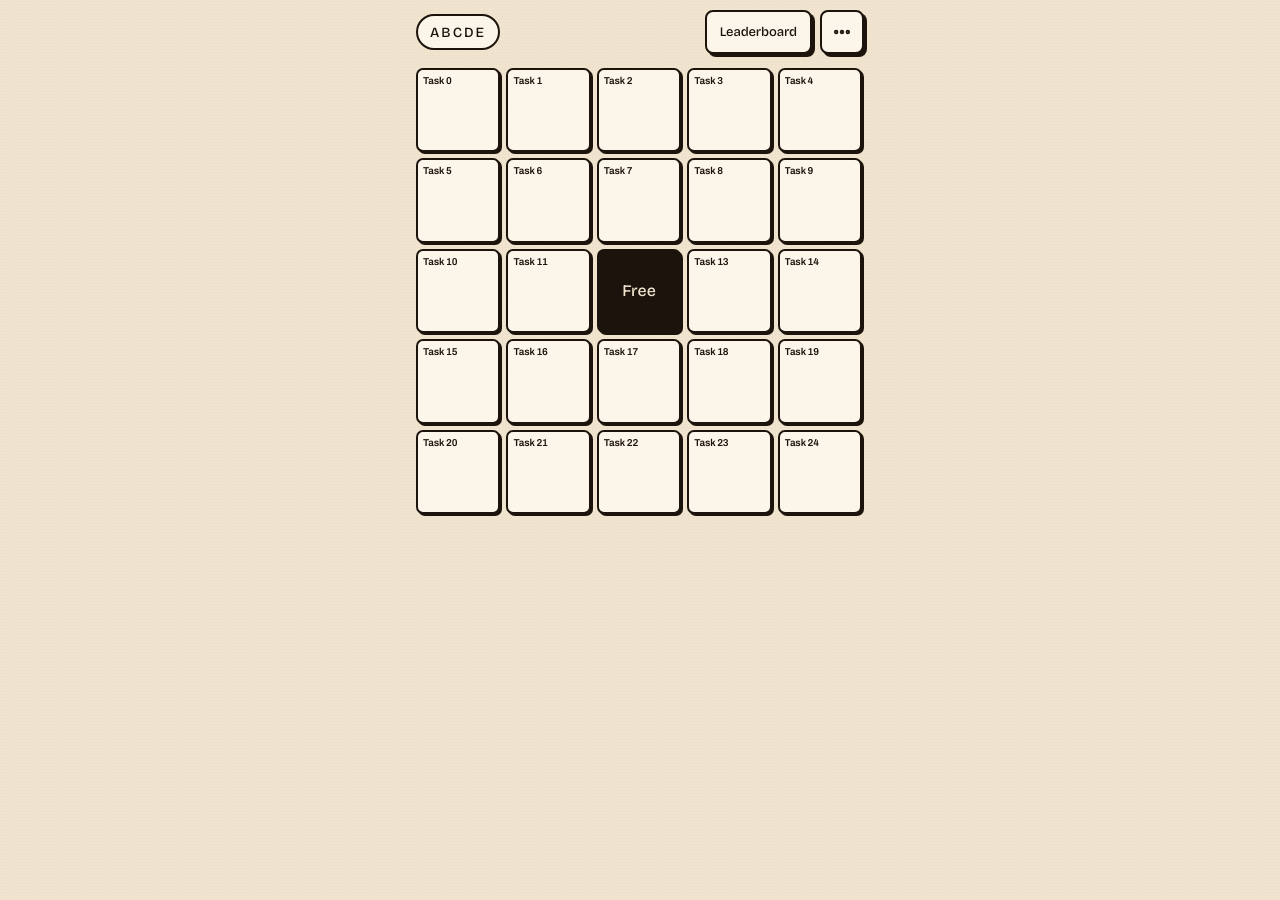
Test case: PlayScreen › opens the standings leaderboard as a dialog; Escape closes
Click the button "Leaderboard": click(758, 32) left=705, top=10, right=812, bottom=54
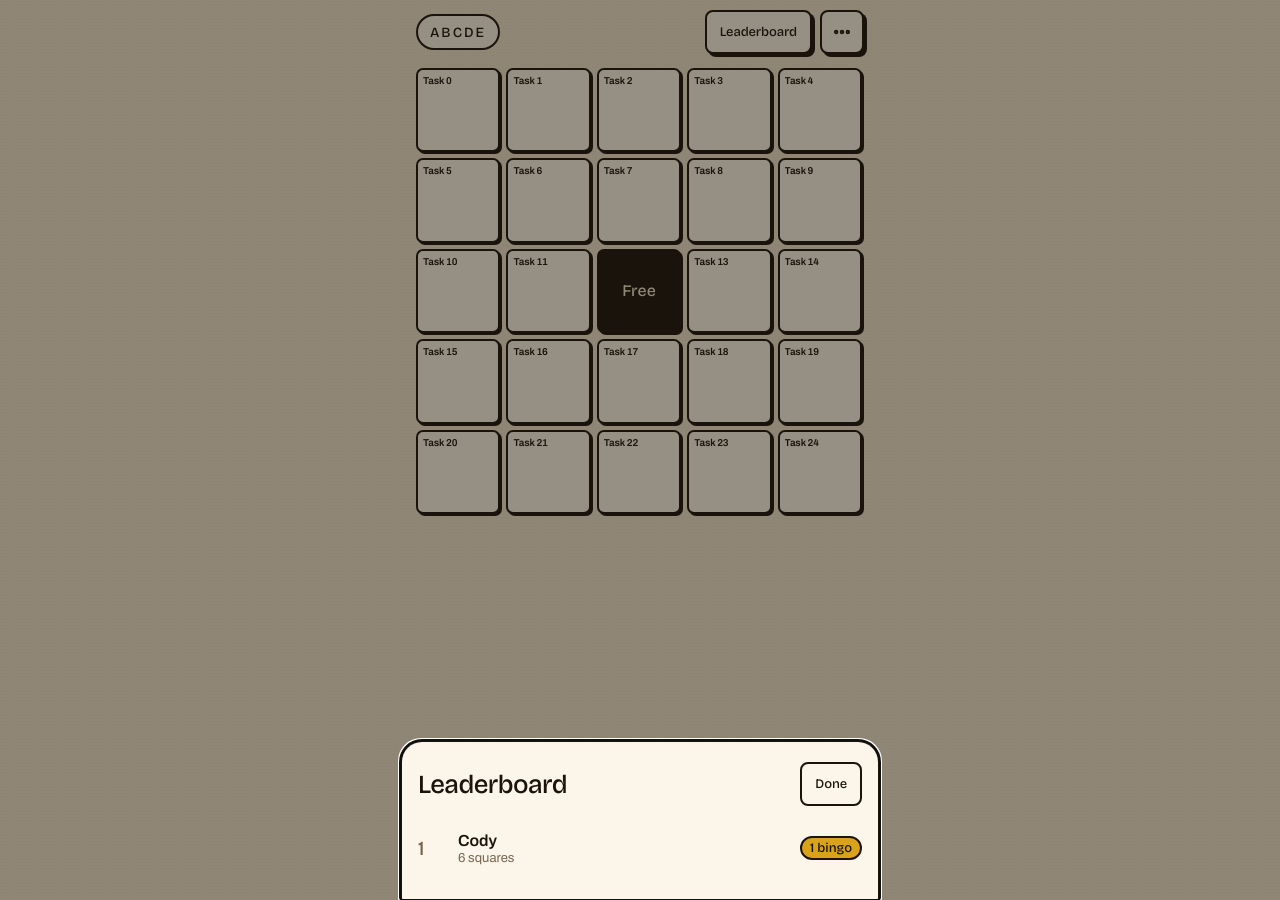
Result: the text "Cody" is shown at left=458, top=832, right=497, bottom=848
Result: the text "1 bingo" is shown at left=800, top=836, right=862, bottom=860
Result: the text "6 squares" is shown at left=458, top=850, right=514, bottom=864
Press Escape
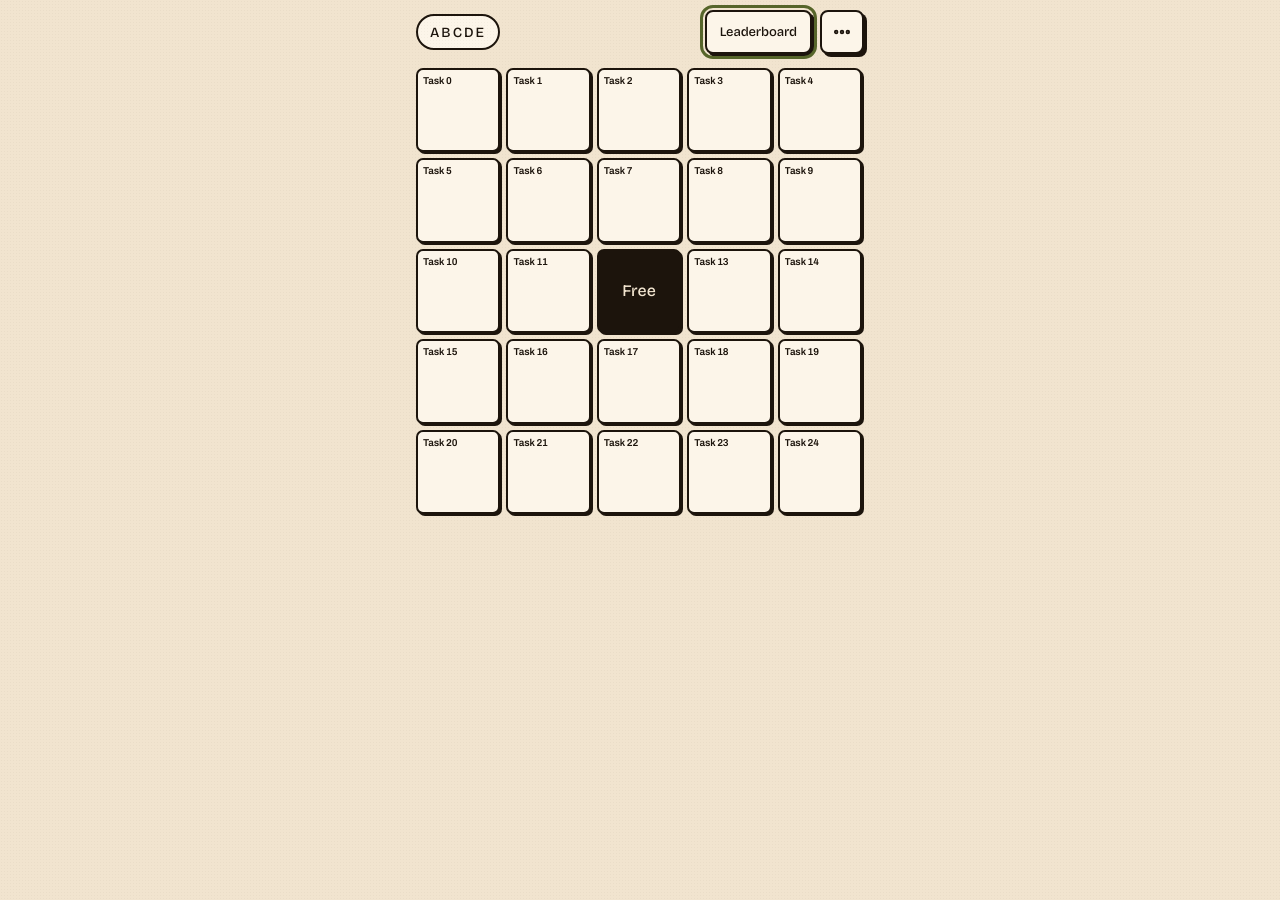
Result: the dialog is gone
